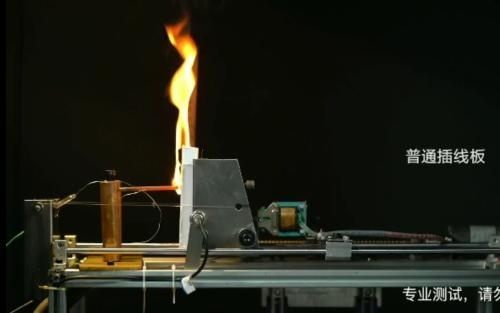fire: (167, 18, 201, 195)
